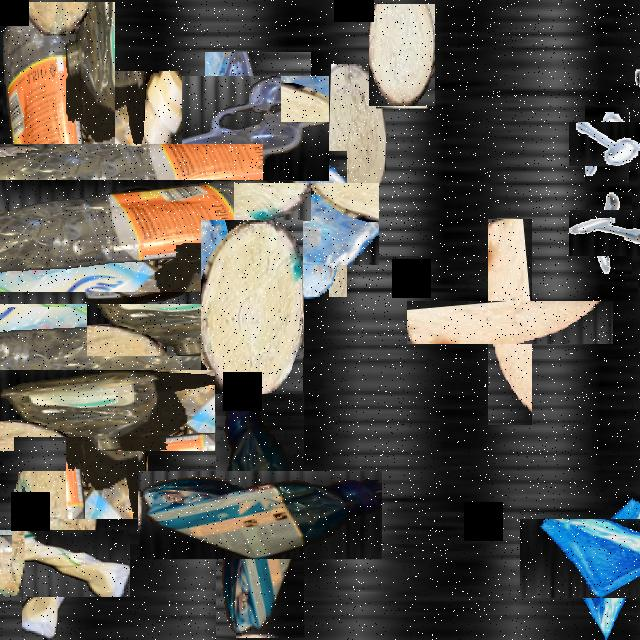glass: (249, 167, 363, 281), (540, 498, 640, 618)
metal: (577, 201, 640, 265), (576, 114, 638, 174), (623, 4, 640, 103)
plastic: (0, 91, 204, 381), (0, 107, 226, 340), (0, 210, 210, 425), (177, 432, 343, 599), (32, 336, 182, 485), (194, 63, 322, 193), (2, 509, 110, 618), (604, 193, 640, 261)
wood: (201, 220, 303, 394), (448, 260, 572, 384), (329, 64, 385, 210), (14, 437, 98, 530), (369, 4, 435, 106)
